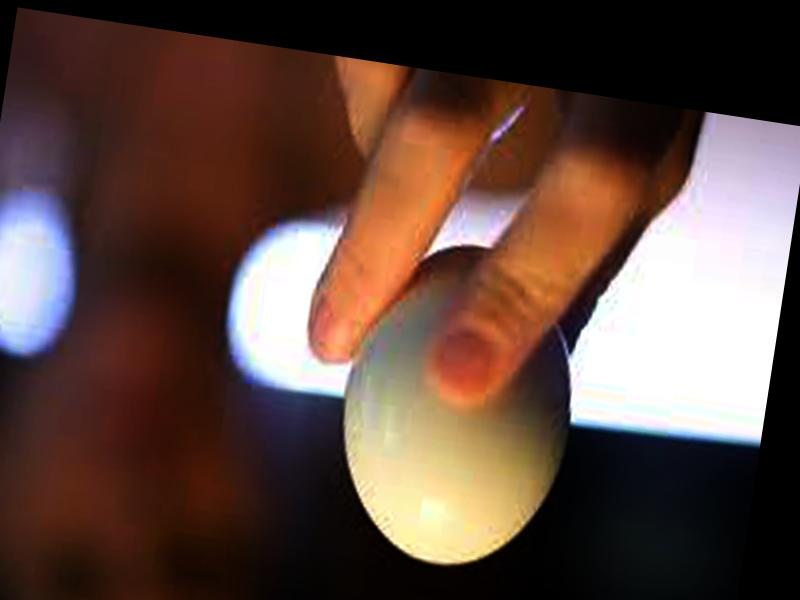Eggs: (317, 228, 590, 580)
